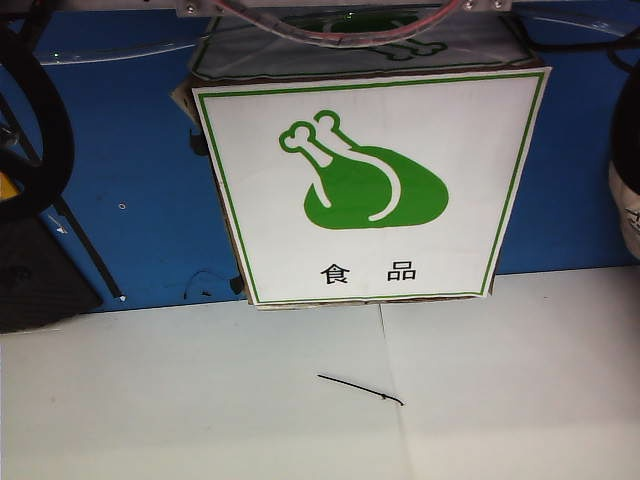Cube_food: (273, 104, 456, 292)
